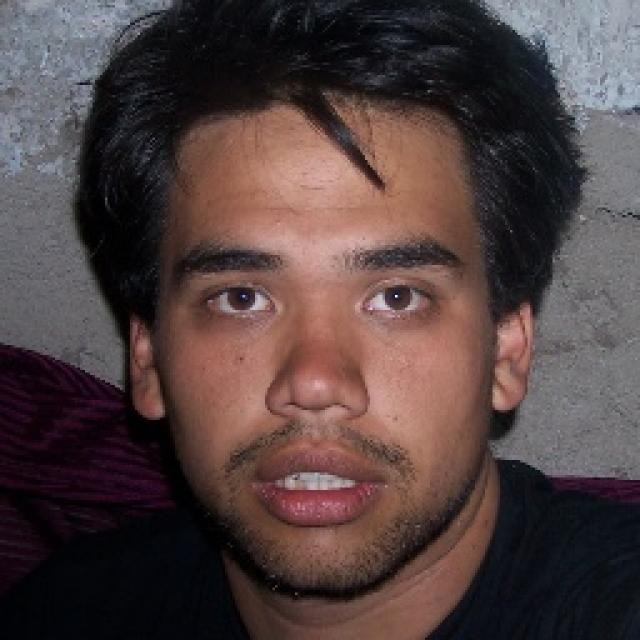earlobe: (129, 367, 171, 422), (487, 364, 521, 416)
eye: (362, 283, 433, 316), (202, 283, 274, 314)
nose: (263, 386, 370, 443)
wholeear: (121, 276, 172, 422), (487, 279, 535, 415)
